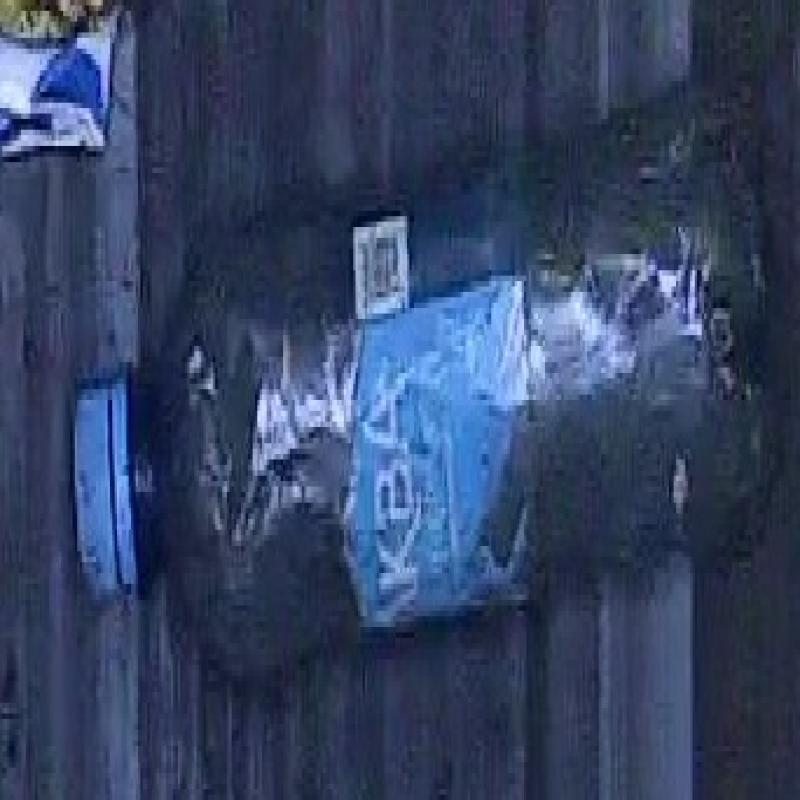botella: (70, 81, 781, 700)
